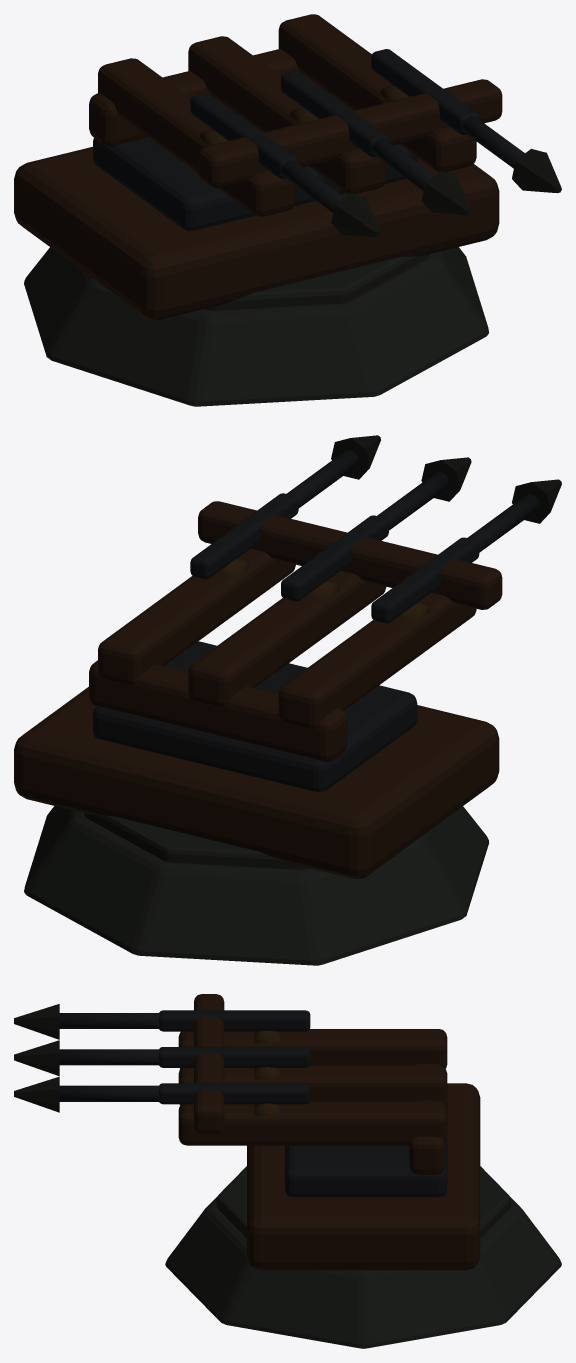
Rendered from TowerMulti0.obj.
3 views of the same model, one above another, from view 1: azimuth 30°, elevation 25°; view 2: azimuth 150°, elevation 25°; view 3: azimuth 270°, elevation 25° (orthographic). The views are drawn at different scales.
Parts seen in each view (by area): view 1: rough_stone_plinth_lower_course, oak_firing_deck, volley_bow_stock, volley_bow_stock.002, volley_bow_stock.001, iron_turntable, rough_stone_plinth_upper_course, volley_bow_limb, oak_windlass_rail, volley_bow_limb.002, volley_bow_limb.001, volley_iron_guide (+8 smaller); view 2: rough_stone_plinth_lower_course, oak_firing_deck, iron_turntable, oak_windlass_rail, volley_bow_stock, volley_bow_stock.001, volley_bow_stock.002, rough_stone_plinth_upper_course, volley_bow_limb, volley_bow_limb.002, volley_iron_guide.002, volley_iron_guide (+8 smaller); view 3: rough_stone_plinth_lower_course, oak_firing_deck, volley_bow_stock.002, iron_turntable, volley_bow_stock.001, volley_bow_stock, volley_iron_guide, volley_iron_guide.002, volley_iron_guide.001, rough_stone_plinth_upper_course, volley_bow_limb.002, iron_bolt.002 (+8 smaller).
Part boxes in pixels (box(x1,y1,x2,y2)): rough_stone_plinth_lower_course: box(24, 247, 488, 406); oak_firing_deck: box(14, 146, 499, 319); volley_bow_stock: box(98, 58, 295, 216); volley_bow_stock.002: box(278, 14, 476, 171); volley_bow_stock.001: box(188, 36, 386, 194); iron_turntable: box(93, 93, 417, 230); rough_stone_plinth_upper_course: box(204, 254, 429, 310); volley_bow_limb: box(198, 124, 316, 187); oak_windlass_rail: box(89, 49, 328, 146); volley_bow_limb.002: box(392, 79, 502, 143); volley_bow_limb.001: box(297, 101, 407, 164); volley_iron_guide: box(190, 93, 298, 179); rough_stone_plinth_lower_course: box(24, 806, 488, 965); oak_firing_deck: box(14, 687, 499, 878); iron_turntable: box(93, 641, 417, 791); oak_windlass_rail: box(89, 660, 347, 762); volley_bow_stock: box(278, 592, 476, 729); volley_bow_stock.001: box(188, 570, 386, 707); volley_bow_stock.002: box(98, 548, 295, 685); rough_stone_plinth_upper_course: box(84, 813, 308, 869); volley_bow_limb: box(384, 545, 502, 609); volley_bow_limb.002: box(198, 501, 313, 565); volley_iron_guide.002: box(190, 493, 298, 579); volley_iron_guide: box(371, 537, 479, 623); rough_stone_plinth_lower_course: box(165, 1197, 561, 1348); oak_firing_deck: box(247, 1083, 480, 1270); volley_bow_stock.002: box(178, 1101, 447, 1145); iron_turntable: box(285, 1101, 447, 1196); volley_bow_stock.001: box(178, 1065, 447, 1105); volley_bow_stock: box(178, 1029, 447, 1068); volley_iron_guide: box(159, 1010, 310, 1031); volley_iron_guide.002: box(159, 1083, 310, 1104); volley_iron_guide.001: box(159, 1047, 310, 1067); rough_stone_plinth_upper_course: box(216, 1166, 510, 1238); volley_bow_limb.002: box(194, 1069, 224, 1134); iron_bolt.002: box(59, 1085, 160, 1101).
Bounding box in the file's own units: 1.57 × 0.985 × 2.16.
